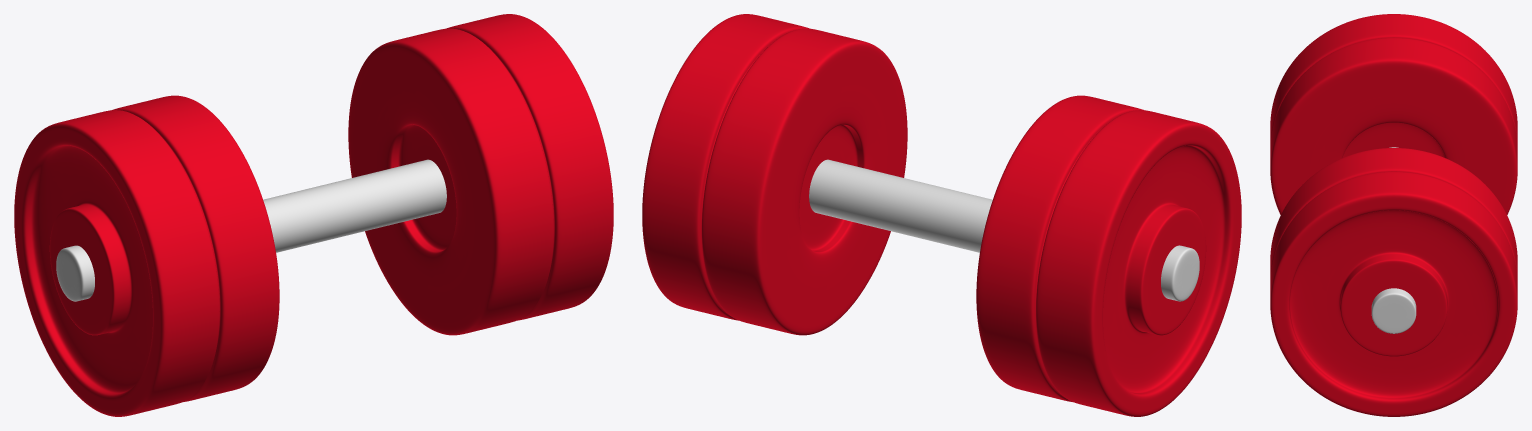
File: gym.glb
3 renders of one model, left to right at view 1: azimuth 30°, elevation 25°; view 2: azimuth 150°, elevation 25°; view 3: azimuth 270°, elevation 25°, orthographic. The views are drawn at different scales.
Visible parts, largest first — view 1: Gym; view 2: Gym; view 3: Gym.
Part boxes in pixels (x1,y1,x2,y2): Gym: [14, 14, 613, 416]; Gym: [642, 14, 1241, 416]; Gym: [1270, 14, 1517, 416].
Bounding box in the file's own units: 1.9 × 1.01 × 1.01.
